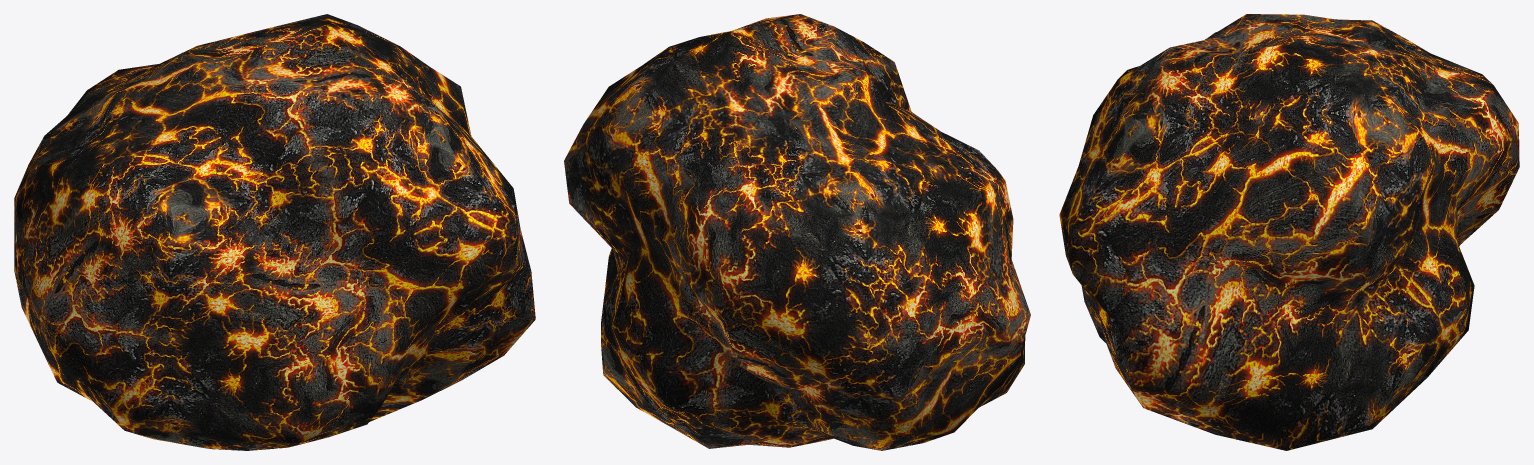
The model's file is asteroid_moltenrock_medium_s01_l0.fbx.
The picture shows the model from 3 angles, left to right: view 1: azimuth 30°, elevation 25°; view 2: azimuth 150°, elevation 25°; view 3: azimuth 270°, elevation 25°; orthographic projection.
Visible parts, largest first — view 1: mesh_node; view 2: mesh_node; view 3: mesh_node.
Part boxes in pixels (box(x1,y1,x2,y2)): mesh_node: box(14, 14, 535, 450); mesh_node: box(564, 14, 1030, 450); mesh_node: box(1059, 14, 1519, 450).
Size of the model in its own units: 106 by 91.87 by 94.98.
